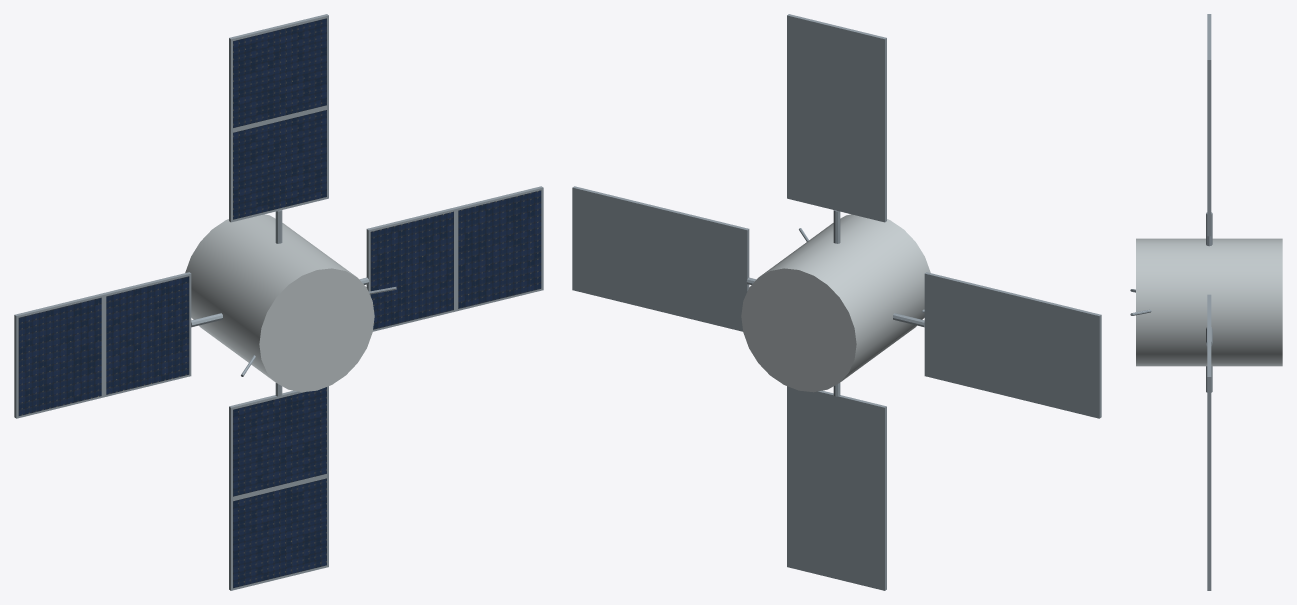
The model's file is ref-uk-e-2773.glb.
3 views of the same model, side by side, from view 1: azimuth 30°, elevation 25°; view 2: azimuth 150°, elevation 25°; view 3: azimuth 270°, elevation 25° (orthographic). The views are drawn at different scales.
Parts seen in each view (by area): view 1: Photovoltaic laminates (×8), Spacecraft body, Array frame (×8); view 2: Array frame (×8), Spacecraft body; view 3: Spacecraft body, Array frame (×4).
Part boxes in pixels (<box>): Photovoltaic laminates (×8): <box>18,18,541,588</box>; Spacecraft body: <box>185,214,374,392</box>; Array frame (×8): <box>14,14,543,590</box>; Array frame (×8): <box>572,14,1101,590</box>; Spacecraft body: <box>741,214,930,392</box>; Spacecraft body: <box>1136,238,1282,366</box>; Array frame (×4): <box>1207,14,1211,590</box>.
Size of the model in its own units: 3.2 by 3.2 by 0.8306.
3 materials, 1 textured.
